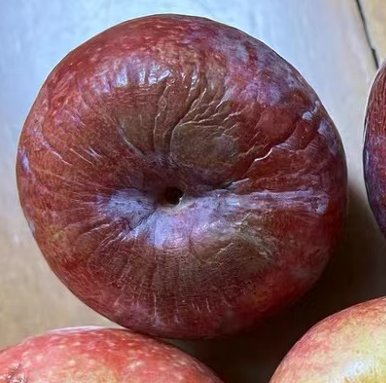plum_C: (17, 15, 349, 343)
